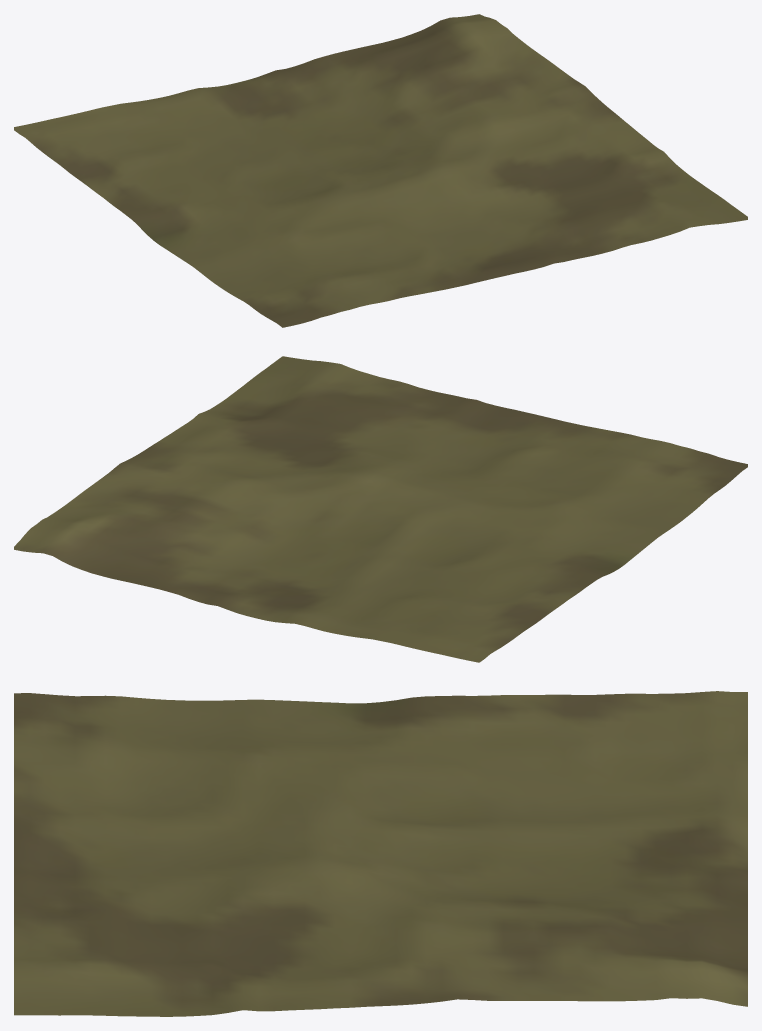
The model's file is land_m_11_03.glb.
3 renders of one model, top to bottom at view 1: azimuth 30°, elevation 25°; view 2: azimuth 150°, elevation 25°; view 3: azimuth 270°, elevation 25°, orthographic. The views are drawn at different scales.
Visible parts, largest first — view 1: land_m_11_03; view 2: land_m_11_03; view 3: land_m_11_03.
Part boxes in pixels (box(x1,y1,x2,y2)): land_m_11_03: box(14, 14, 747, 327); land_m_11_03: box(14, 356, 747, 662); land_m_11_03: box(14, 691, 747, 1016).
Bounding box in the file's own units: 960 × 48 × 960.
